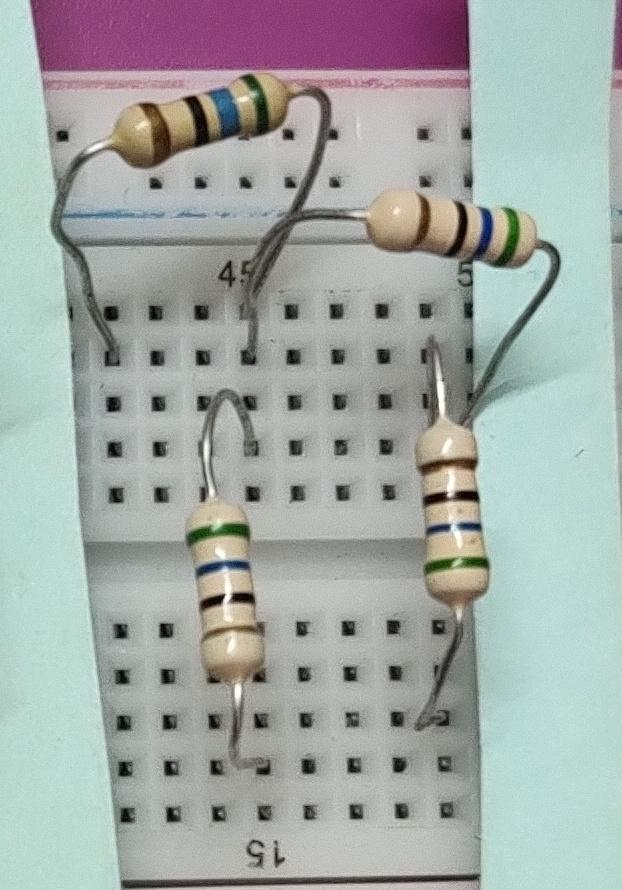resistor: (170, 490, 285, 692), (90, 64, 302, 167), (410, 402, 509, 617), (355, 177, 552, 279)
